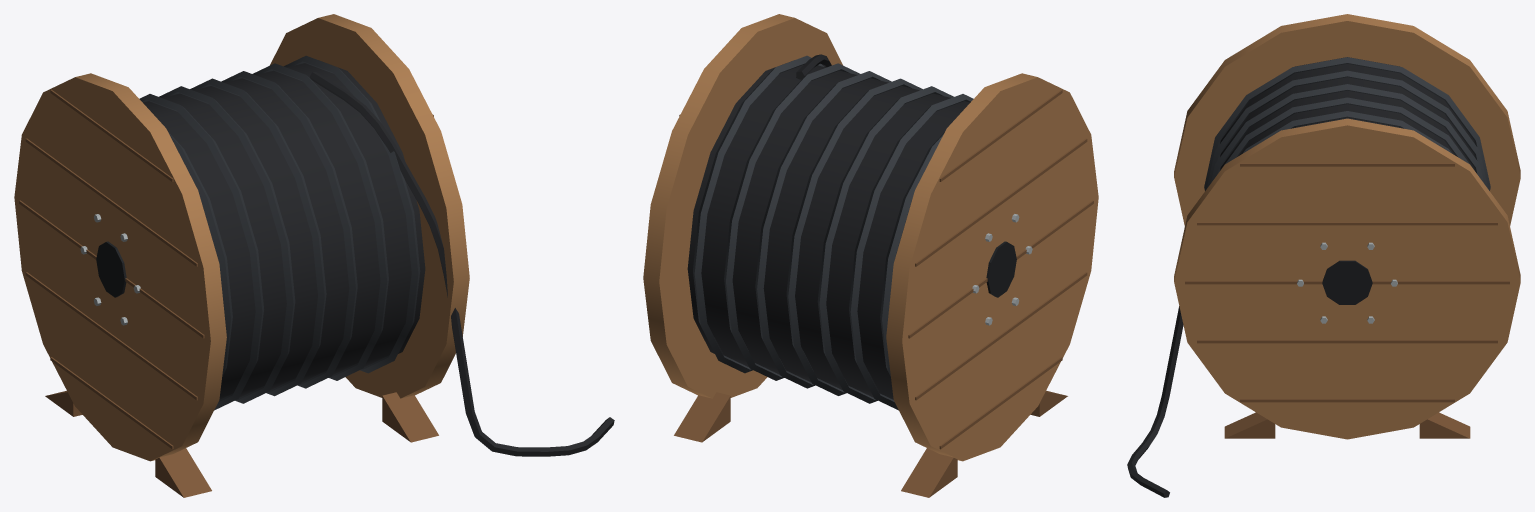
File: SC_Util_Cable_Drum.gltf
3 renders of one model, left to right at view 1: azimuth 30°, elevation 25°; view 2: azimuth 150°, elevation 25°; view 3: azimuth 270°, elevation 25°, orthographic. The views are drawn at different scales.
Visible parts, largest first — view 1: SC_Util_Cable_Drum; view 2: SC_Util_Cable_Drum; view 3: SC_Util_Cable_Drum.
Part boxes in pixels (left/top/right/bottom): SC_Util_Cable_Drum: left=14, top=14, right=614, bottom=497; SC_Util_Cable_Drum: left=643, top=14, right=1098, bottom=497; SC_Util_Cable_Drum: left=1127, top=14, right=1520, bottom=497.
Bounding box in the file's own units: 1.13 × 0.96 × 1.09.
Materials: 1 (1 with a texture image).
